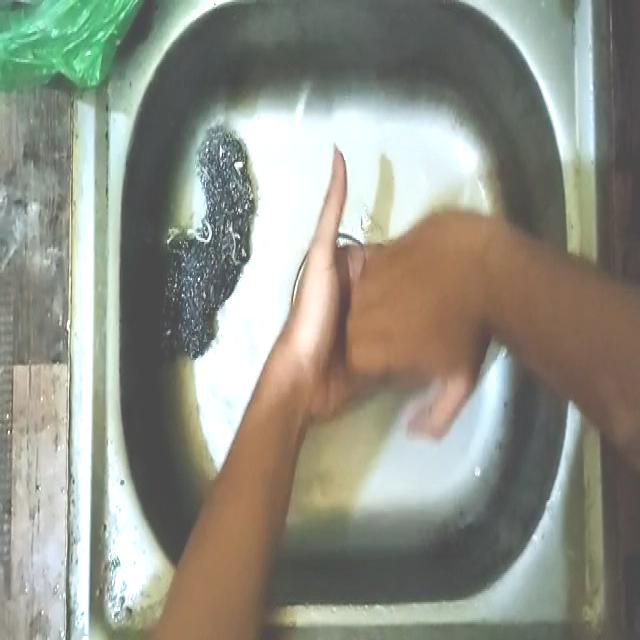step_4: (294, 130, 490, 444)
